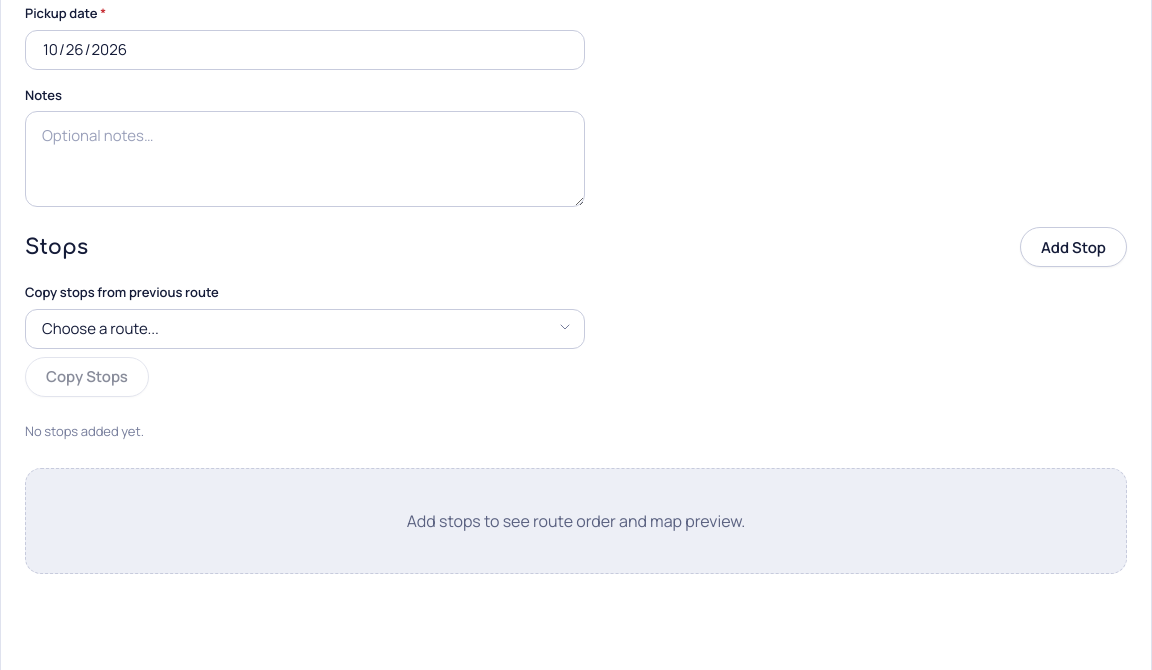
Test: NewRoutePage Route Request › Schedule Diff › starts the lines over when another Customer is chosen
(page scrolled)
Select "OLD-1" in the dropdown labelled "Copy stops from previous route" at x=305, y=329, box [25, 309, 585, 349]
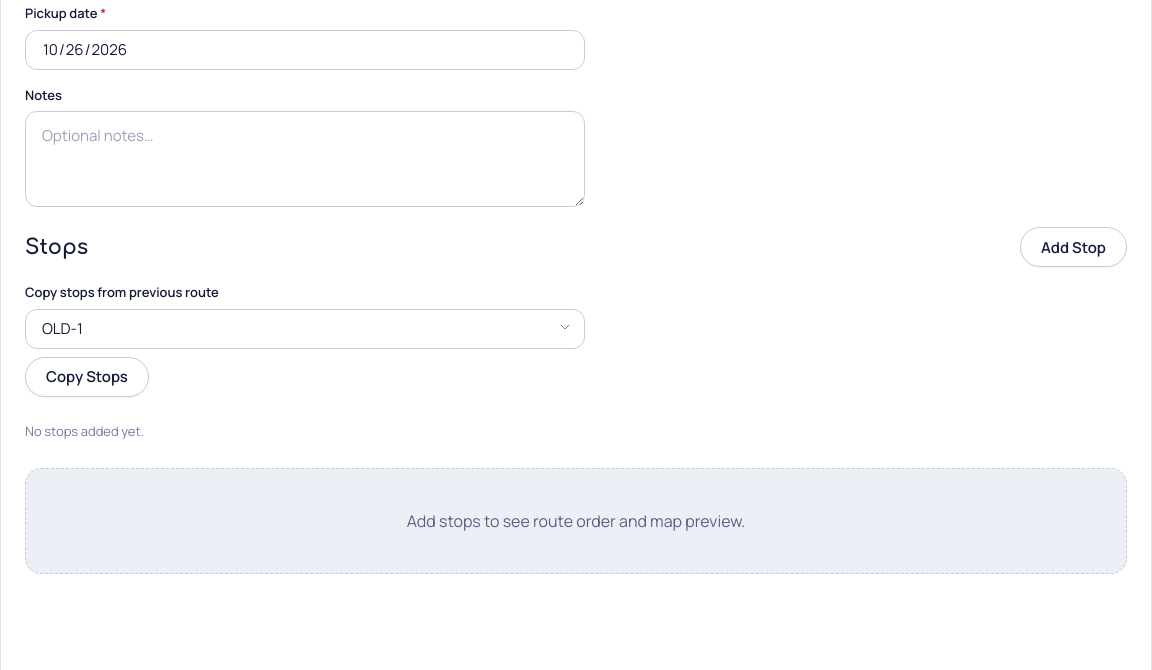
Click the button "Copy Stops" at x=87, y=377, box [25, 357, 149, 397]
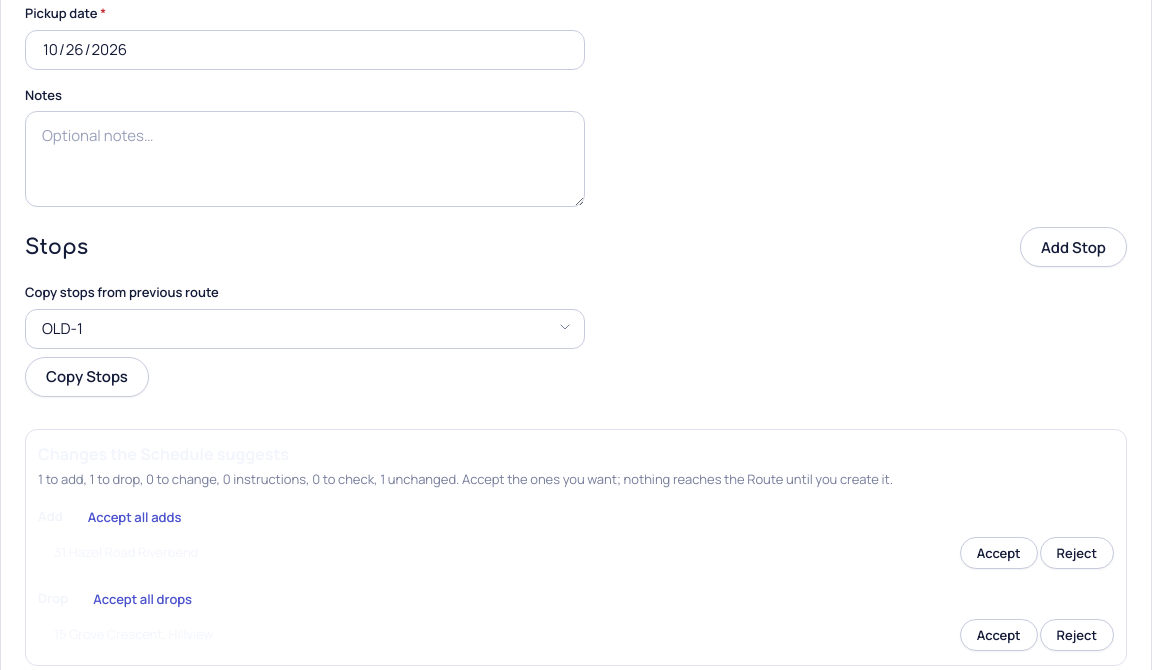
Check: the element named "Schedule Diff" is shown, box [25, 429, 1127, 666]
Click the button with aria-label "Accept: add 31 Hazel Road Riverbend" at x=999, y=553, box [960, 537, 1038, 569]
(page scrolled)
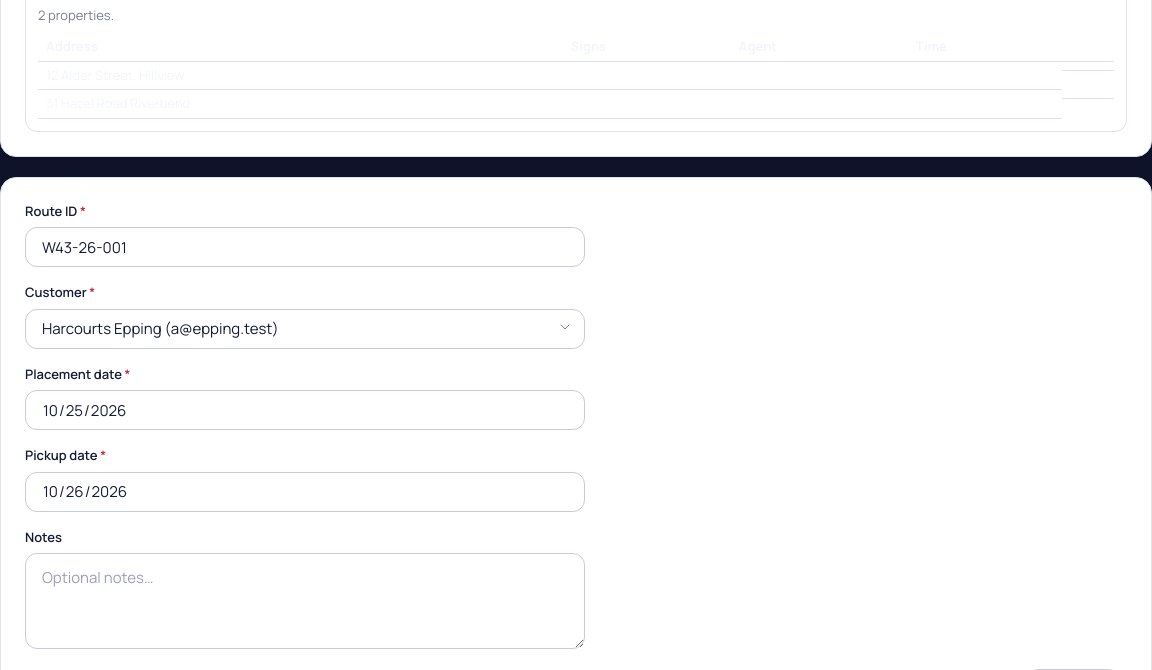
Select "First Agency (a@first.test)" in the dropdown labelled "Customer *" at x=305, y=329, box [25, 309, 585, 349]
(page scrolled)
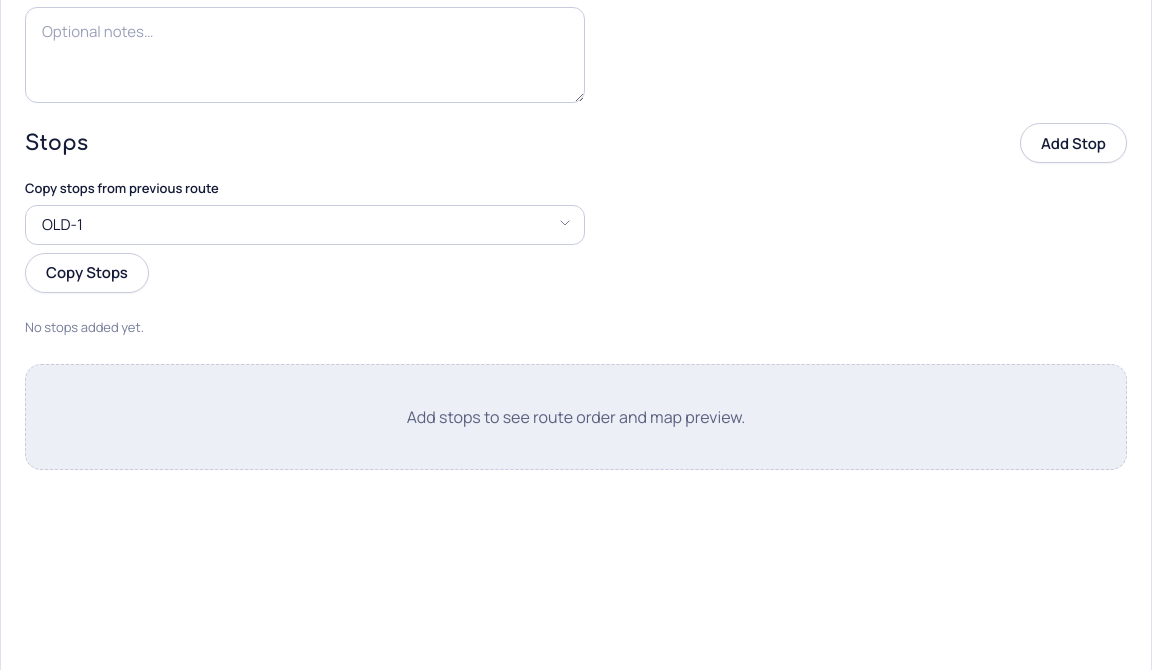
Check: the text "No stops added yet." is shown, box [25, 318, 144, 336]
